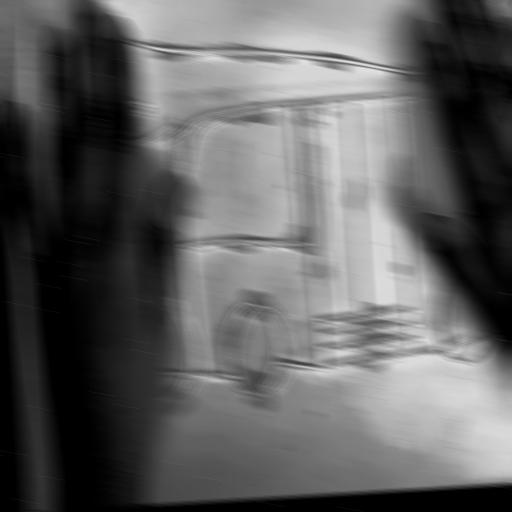bus: (44, 0, 512, 405)
